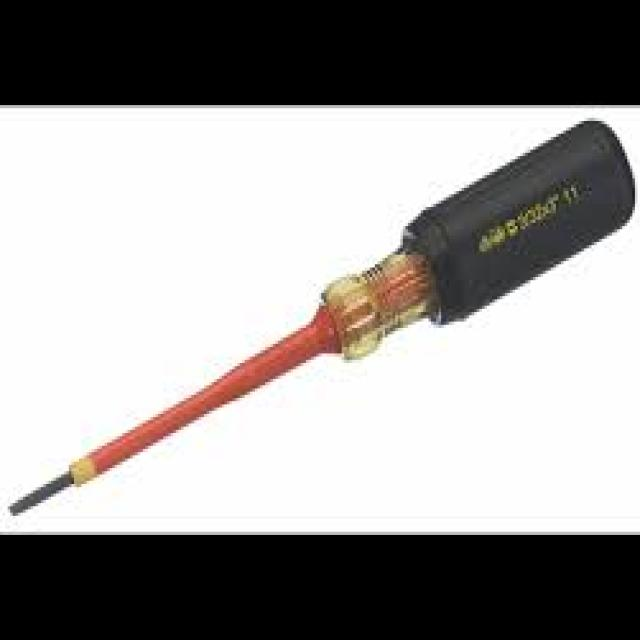screw driver: (2, 105, 640, 538)
